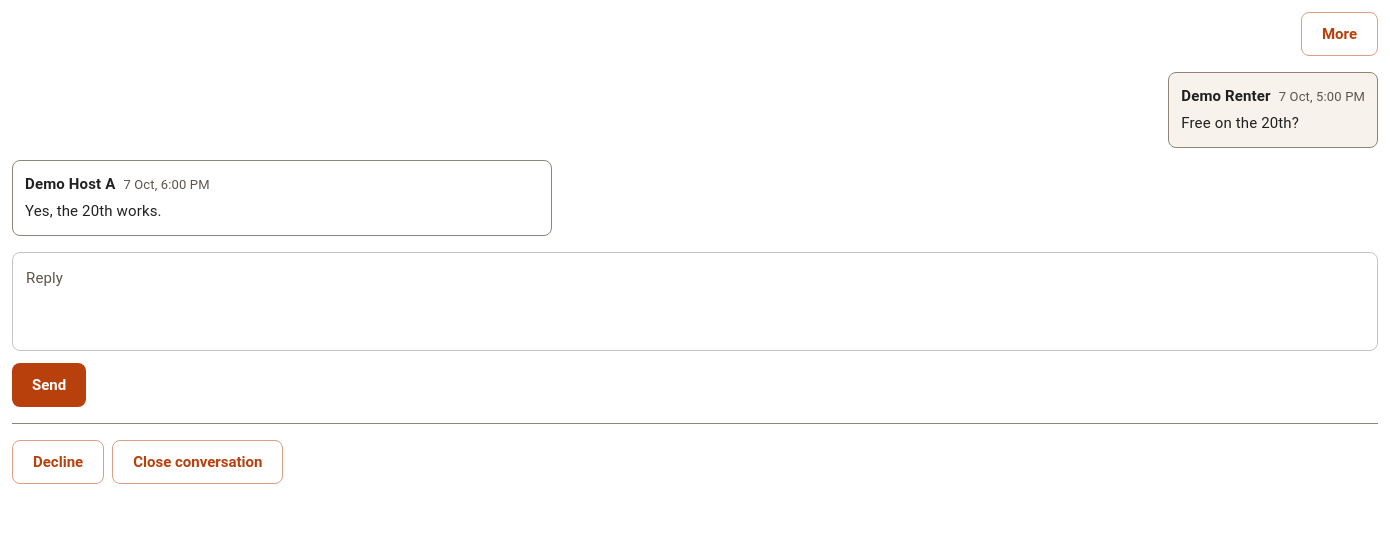
Test: offers Decline only to the host
Click the button "Decline" at (58,462), box x1=12 y1=440 x2=104 y2=484
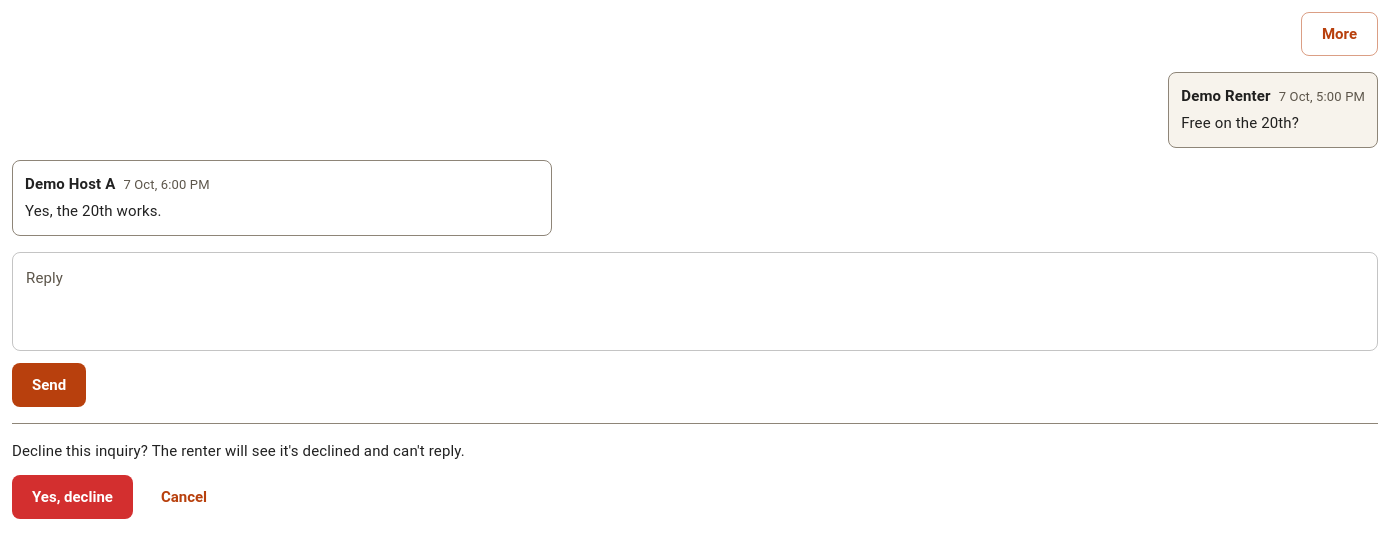
Click the button "Yes, decline" at (72,497), box x1=12 y1=475 x2=133 y2=519
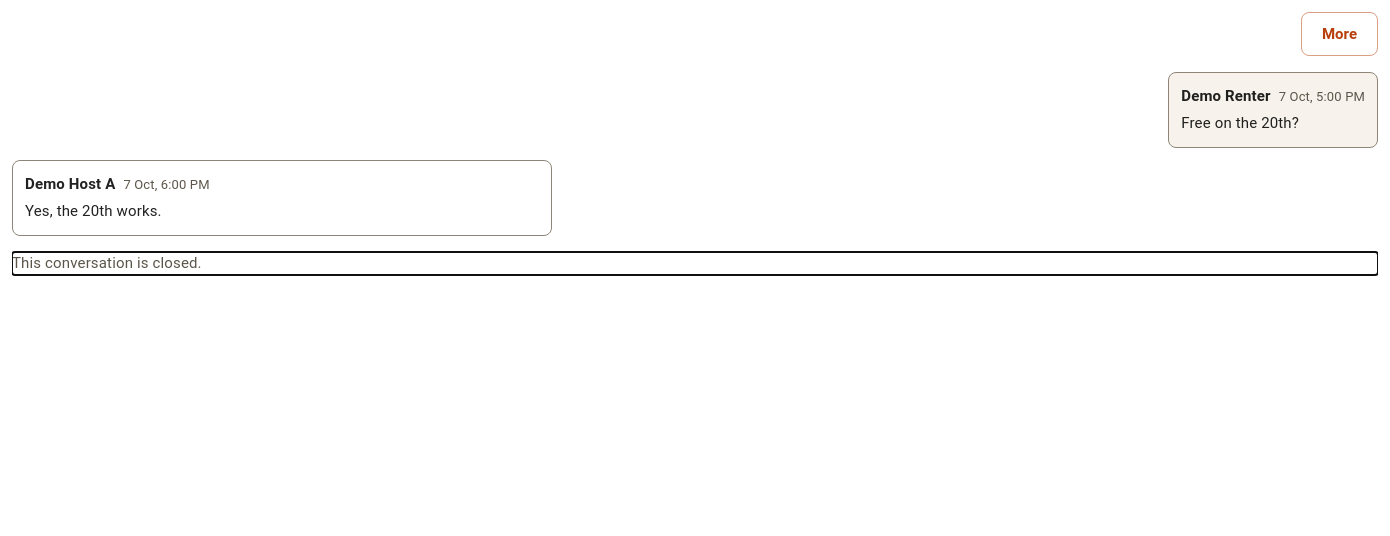
Check: the text "This conversation is closed." is shown, box x1=12 y1=254 x2=202 y2=272
